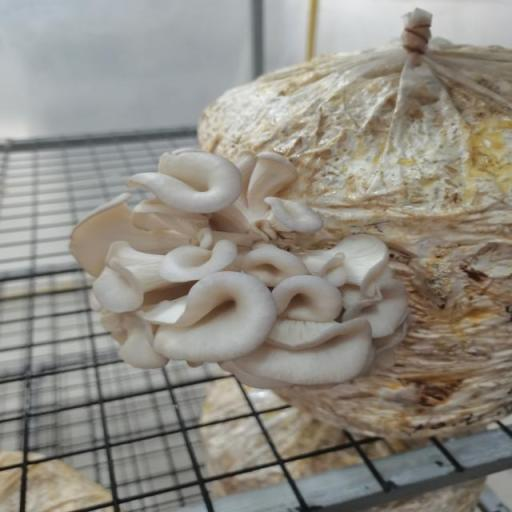White Oyster Mushroom: (60, 141, 410, 397)
